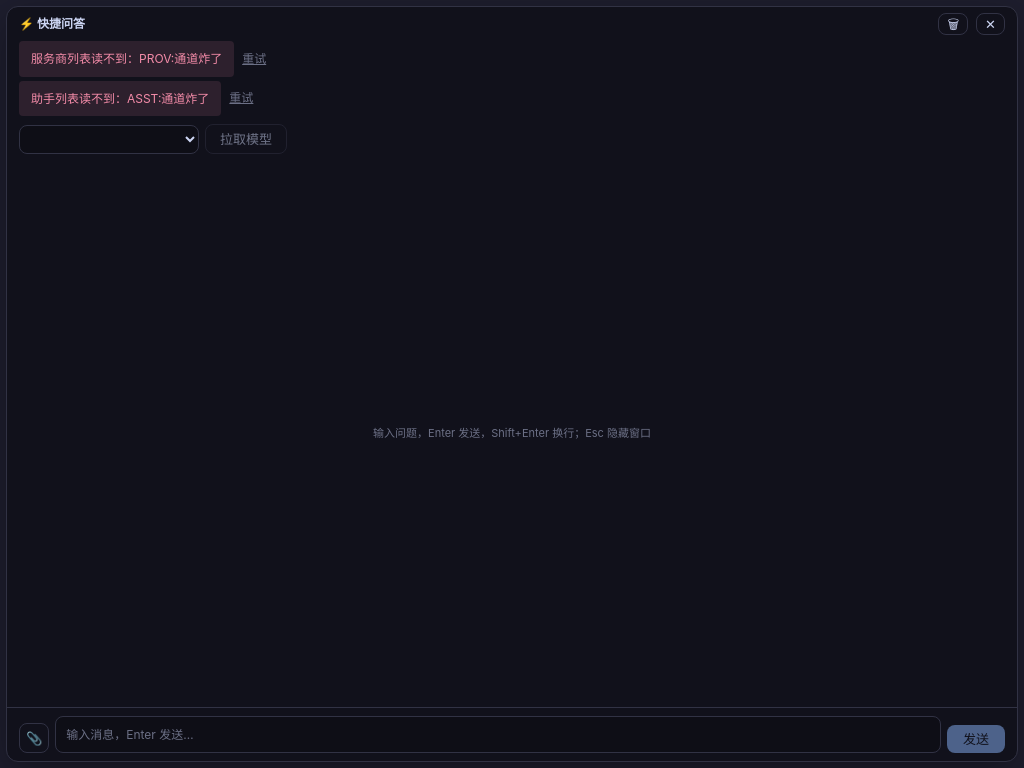
Test case: 浮窗：服务商与助手两张脸各配一颗键，各点各的那一发 › 两发都挂 ⇒ 两颗键都在（且都在 alert 盒子外）⇒ 各按一次只多发自己那一条通道
This screenshot has width=1024, height=768.
expect the button with test id "popup-assistants-read-retry" reads "重试": met, box [229,90,253,106]
Step 1. Click the button with test id "popup-providers-read-retry" → (254, 59), box [242,51,266,67]
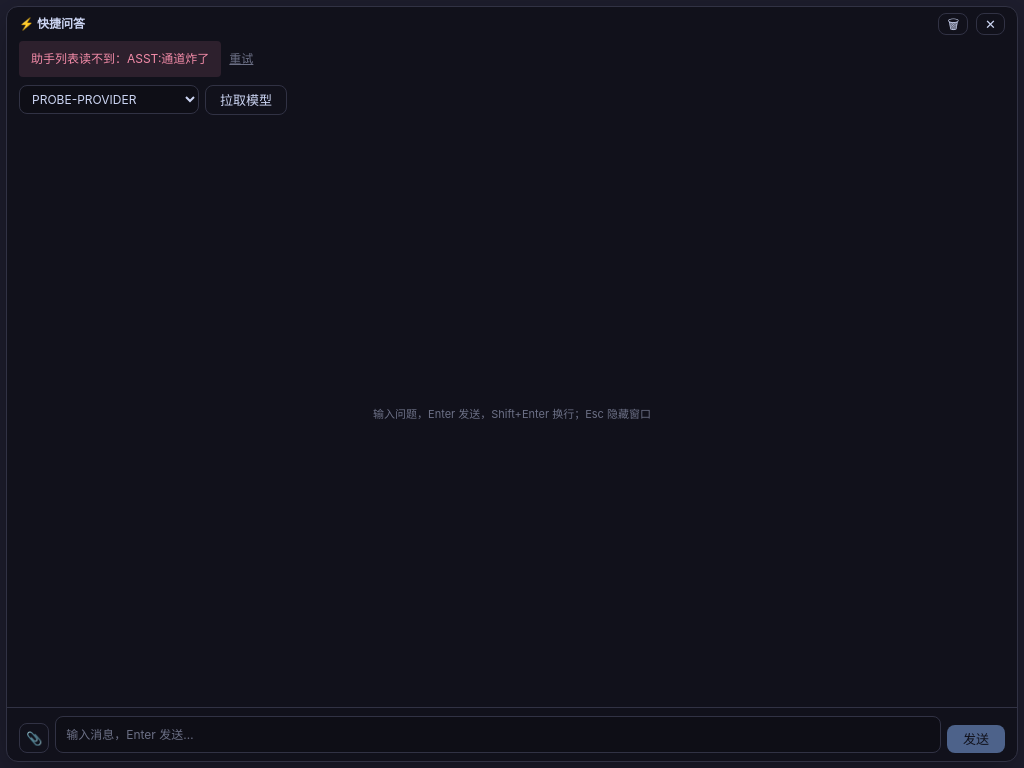
expect the button with test id "popup-providers-read-retry" is gone: met
Step 2. Click the button with test id "popup-assistants-read-retry" → (241, 59), box [229,51,253,67]
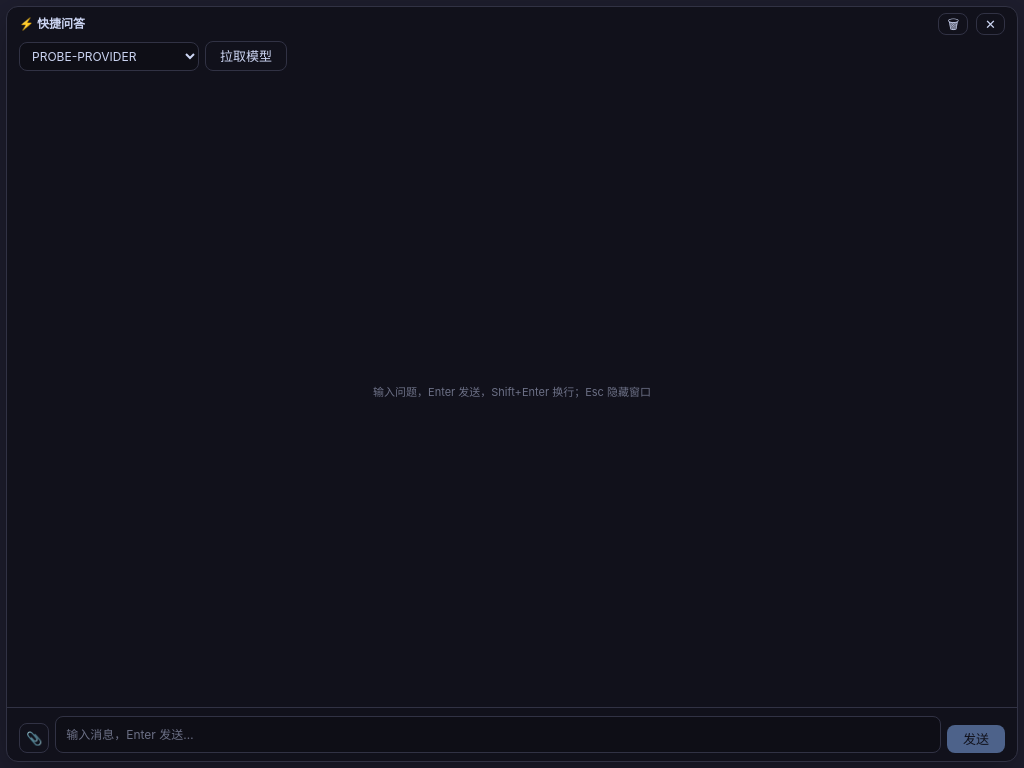
expect the button with test id "popup-assistants-read-retry" is gone: met
